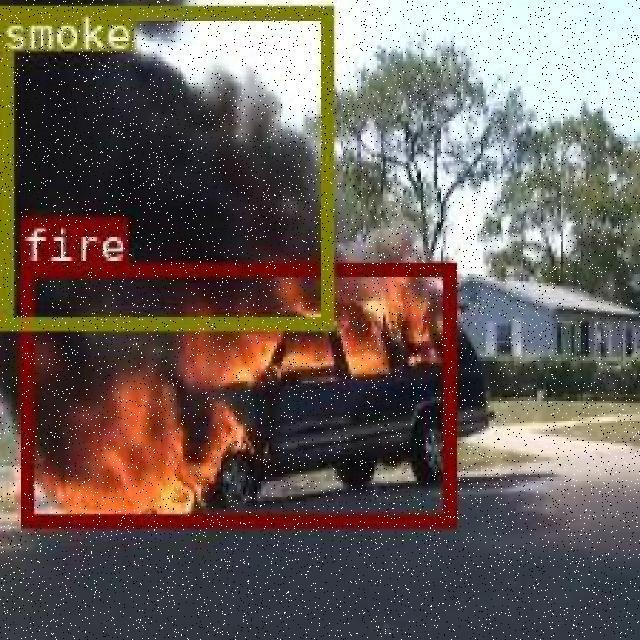Smoke: (0, 0, 265, 263)
